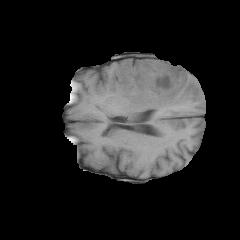glioma: (112, 59, 199, 110)
